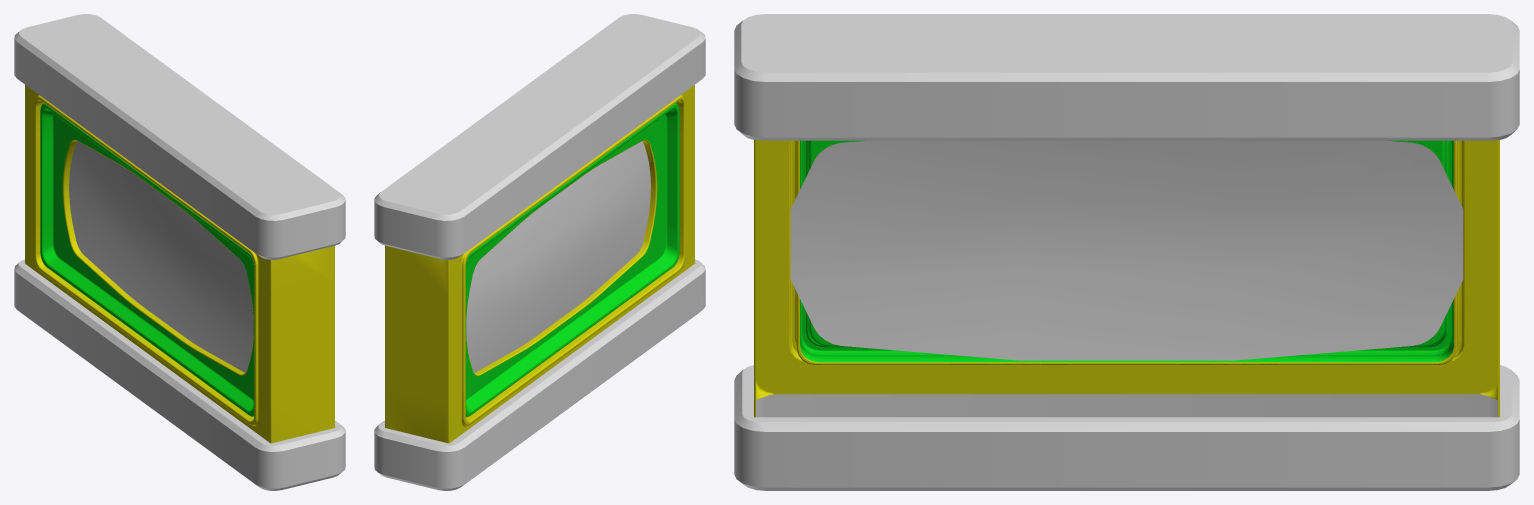
The model's file is Option Tab.fbx.
3 views of the same model, side by side, from view 1: azimuth 30°, elevation 25°; view 2: azimuth 150°, elevation 25°; view 3: azimuth 270°, elevation 25° (orthographic). The views are drawn at different scales.
Parts seen in each view (by area): view 1: Cube.001, Cube, Cube.002; view 2: Cube.001, Cube, Cube.002; view 3: Cube.001, Cube.002, Cube.
Boxes of the visible parts, x1=… form: Cube.001: x1=14, y1=14, x2=345, y2=490; Cube: x1=25, y1=85, x2=334, y2=443; Cube.002: x1=69, y1=141, x2=253, y2=372; Cube.001: x1=374, y1=14, x2=705, y2=490; Cube: x1=385, y1=85, x2=694, y2=443; Cube.002: x1=466, y1=141, x2=650, y2=372; Cube.001: x1=734, y1=14, x2=1519, y2=490; Cube.002: x1=790, y1=140, x2=1463, y2=360; Cube: x1=754, y1=140, x2=1499, y2=417.
Bounding box in the file's own units: 217 × 655 × 1115.
